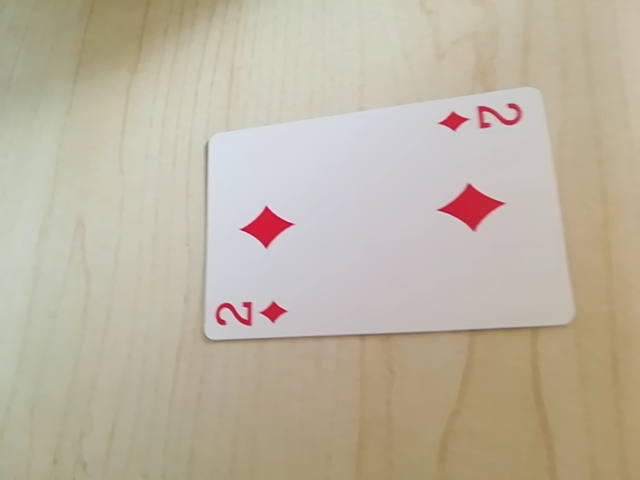fk 2: (439, 97, 531, 141), (212, 291, 294, 339)
